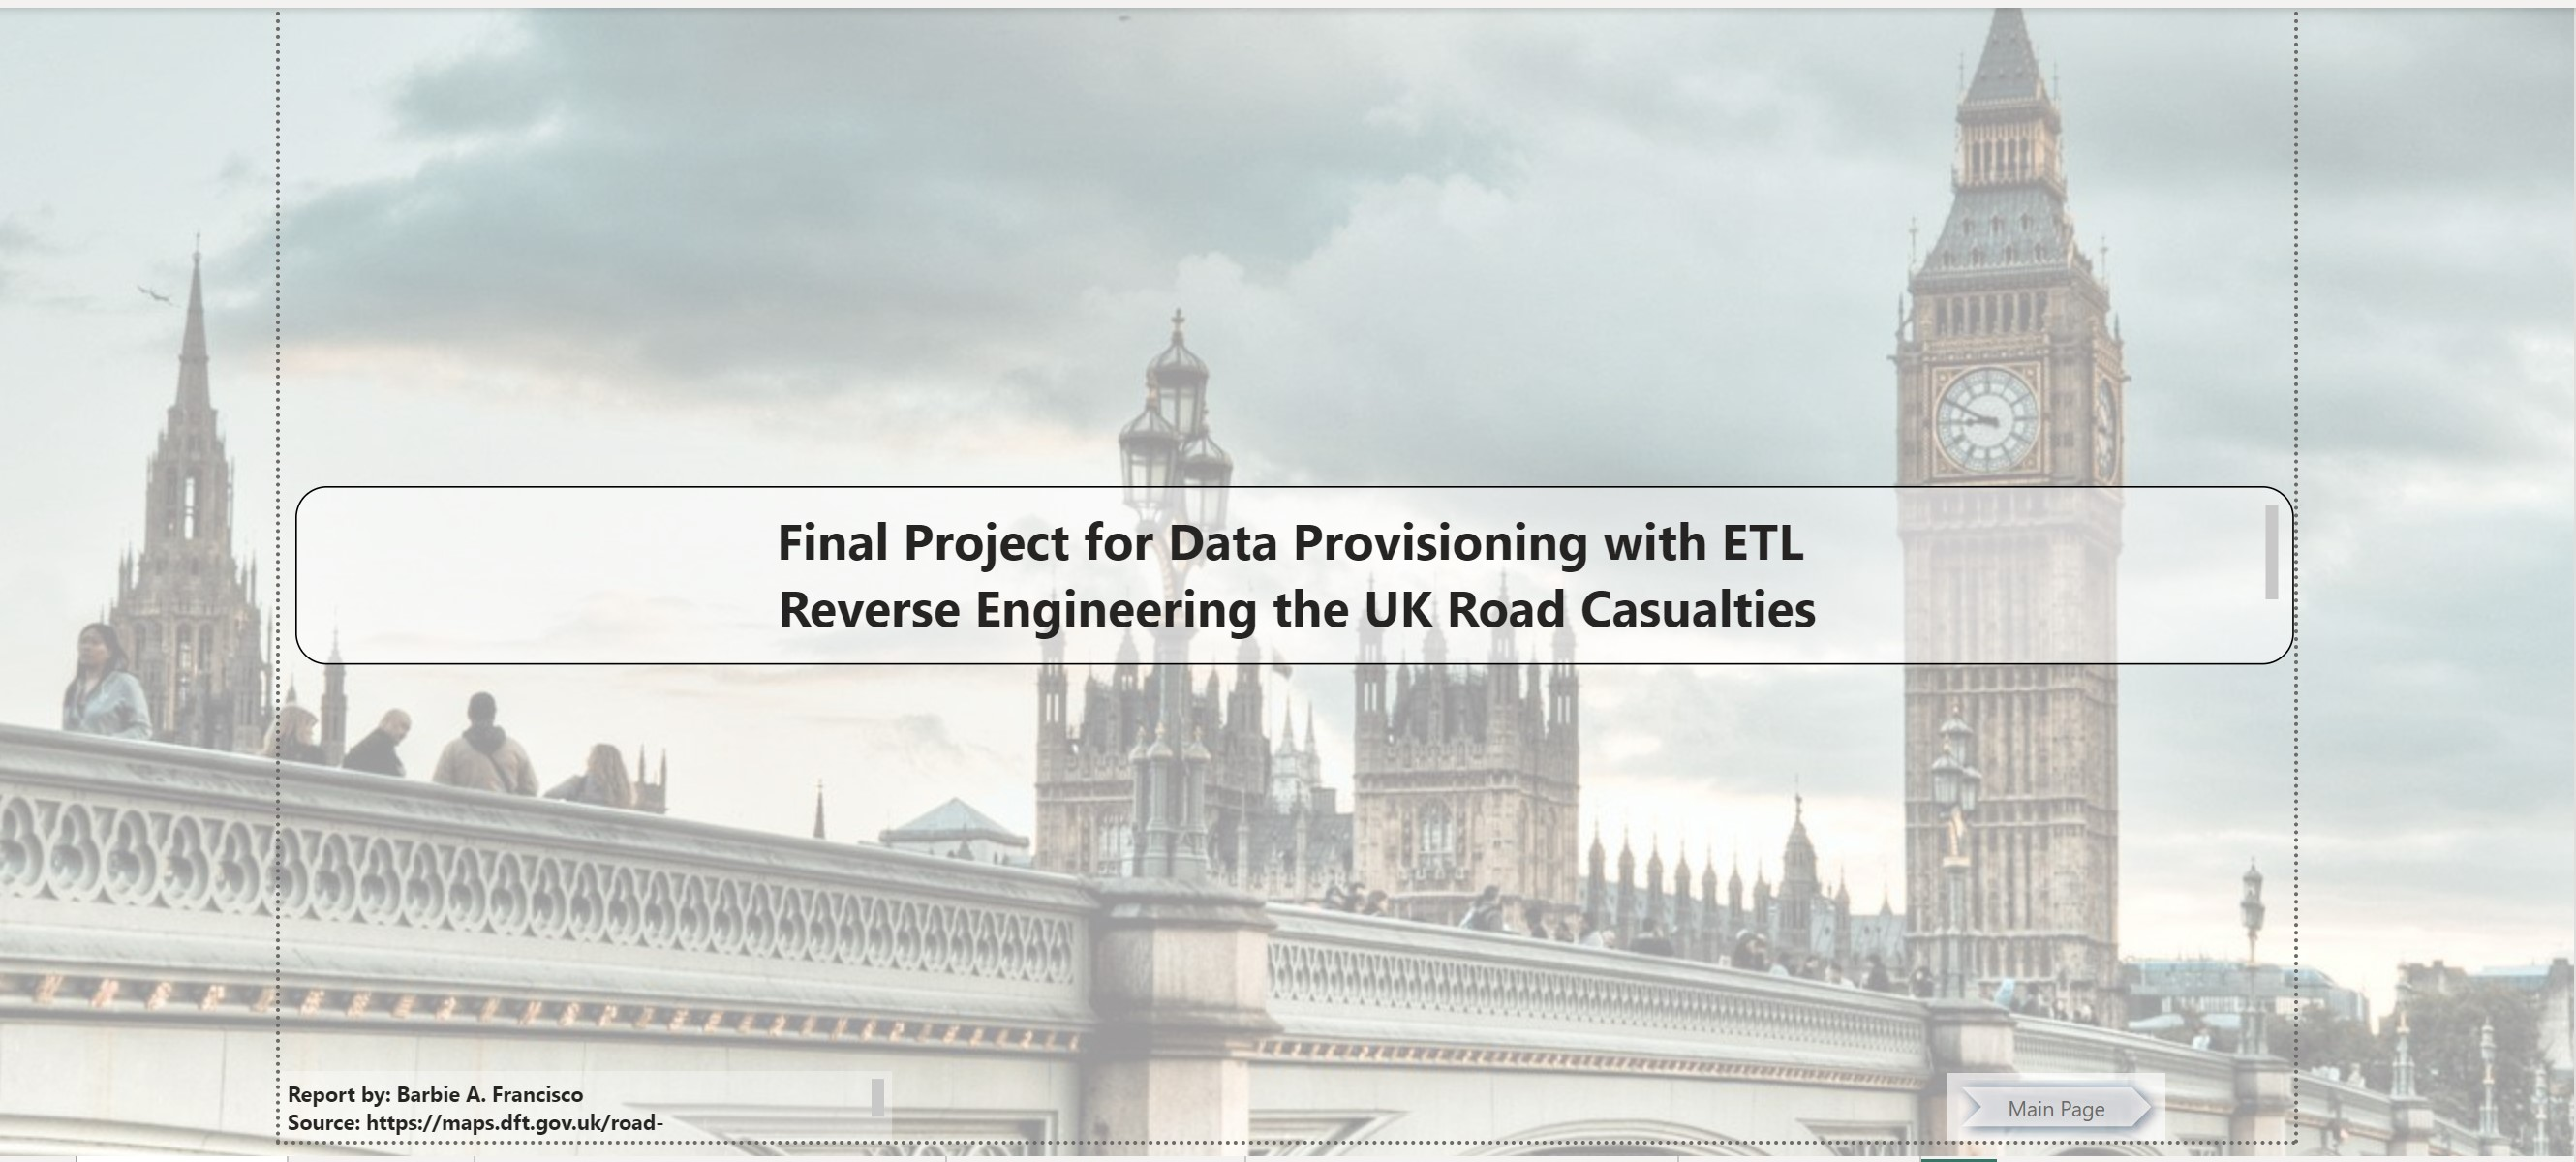

The page's visual inventory and layout, read from the dashboard file:
{"tool":"powerbi","page":{"name":"Introduction","canvas":[1280,720],"ordinal":0},"visuals":[{"type":"image","box":[153.4,107.7,974.4,504.7],"z":0},{"type":"textbox","box":[156.1,555.8,970.3,114.4],"z":1000},{"type":"textbox","box":[0,687.5,630.8,32.2],"z":2000}]}

Visuals, with their boxes on the page's 1280x720 design canvas (x1, y1, x2, y2). These are canvas units, not pixel positions in the 2576x1162 screenshot, which may show the page scaled, cropped or inside an application window:
image: {"left": 153, "top": 108, "right": 1128, "bottom": 612}
textbox: {"left": 156, "top": 556, "right": 1126, "bottom": 670}
textbox: {"left": 0, "top": 688, "right": 631, "bottom": 720}
